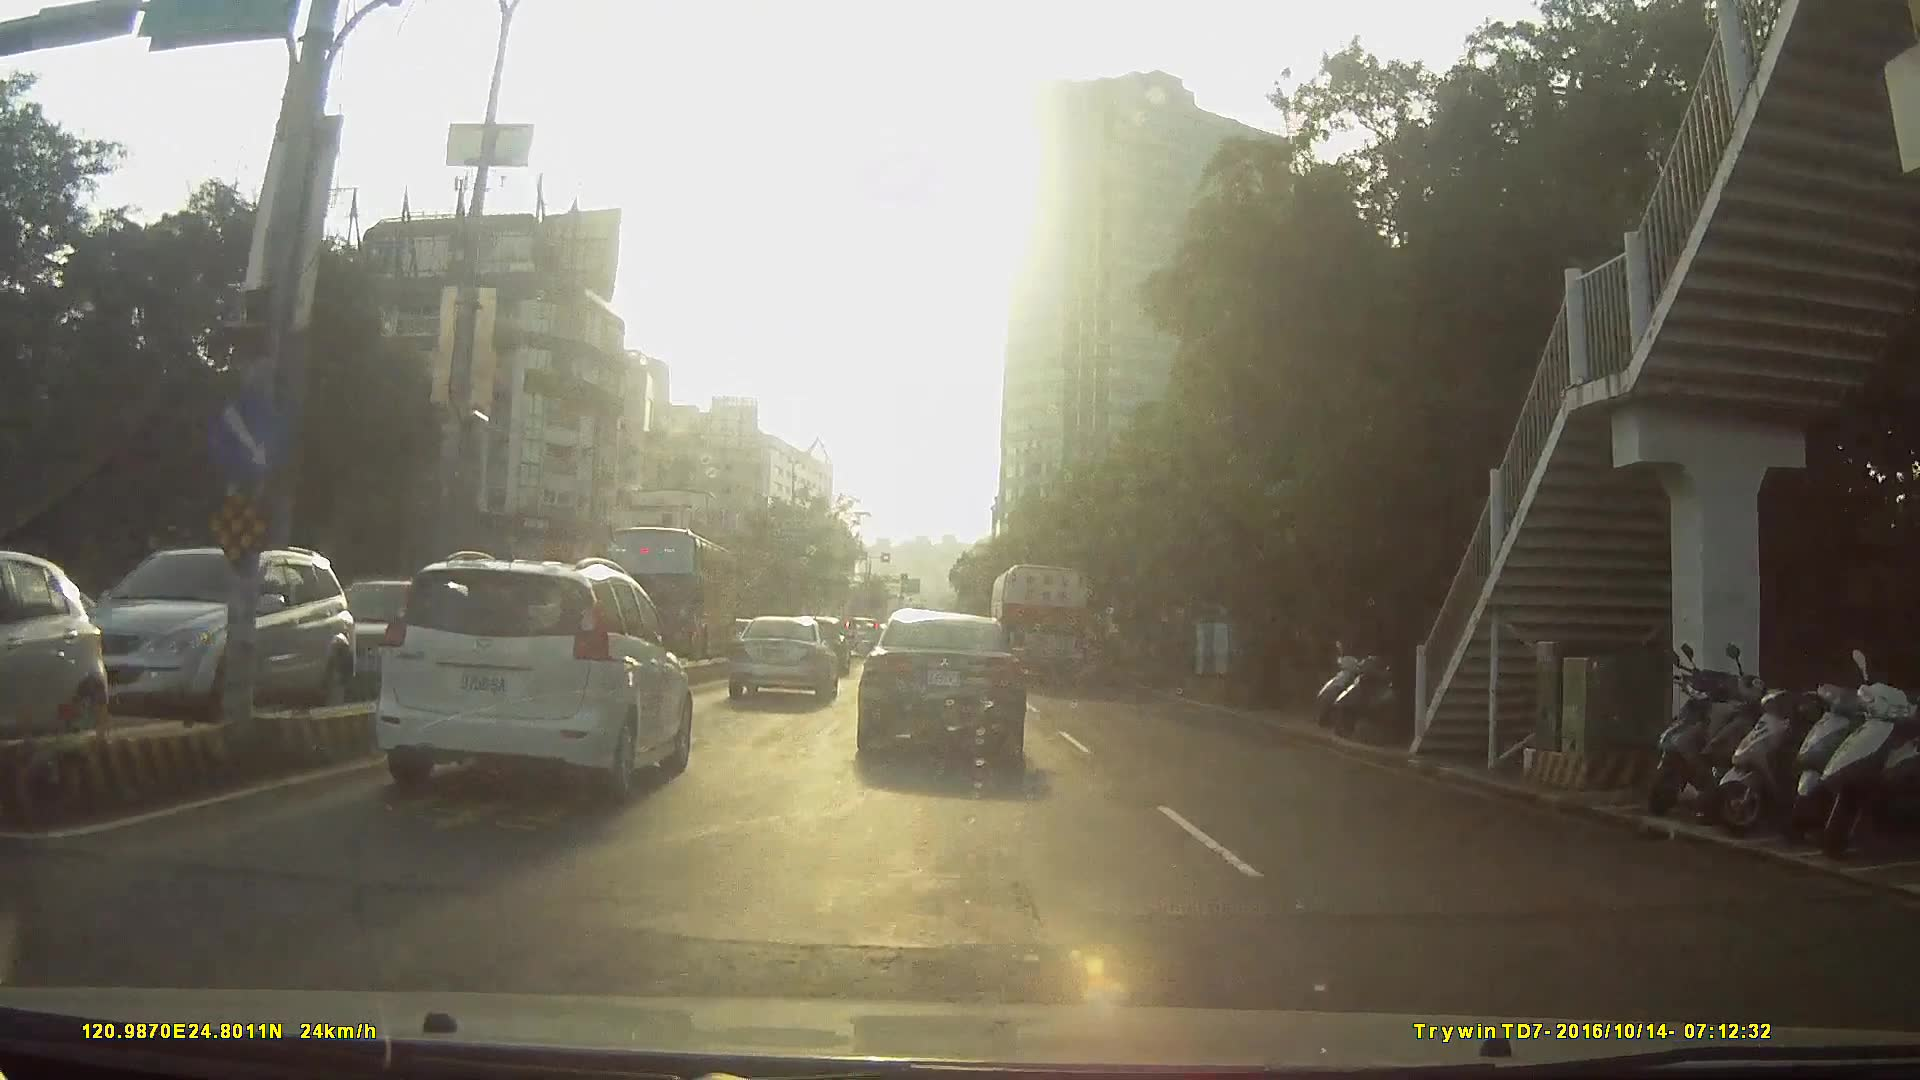vehicle: (251, 556, 684, 868), (377, 547, 694, 799), (71, 530, 376, 731), (856, 600, 1029, 769), (295, 574, 485, 688), (592, 521, 735, 663), (989, 559, 1095, 686), (728, 613, 837, 705), (839, 612, 886, 655)
